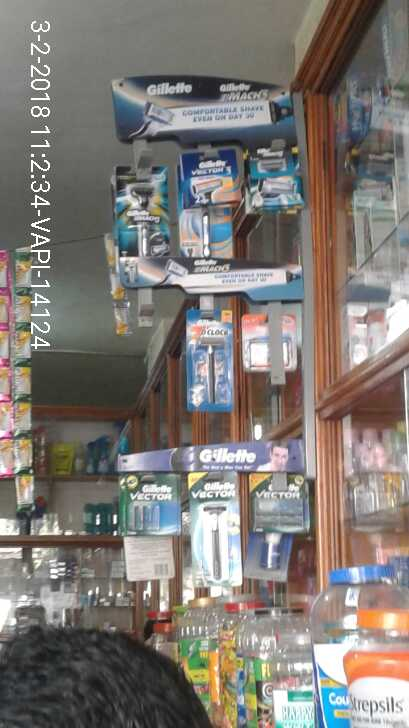gillette: (181, 467, 243, 588), (114, 164, 171, 263), (185, 307, 237, 413), (238, 142, 308, 213), (121, 468, 180, 541), (247, 467, 309, 533), (185, 135, 237, 210)
